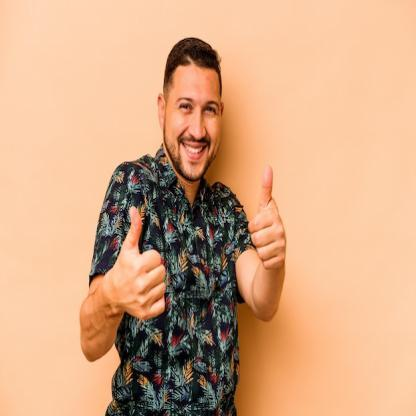thumb_up: (114, 204, 170, 322), (244, 164, 292, 272)
